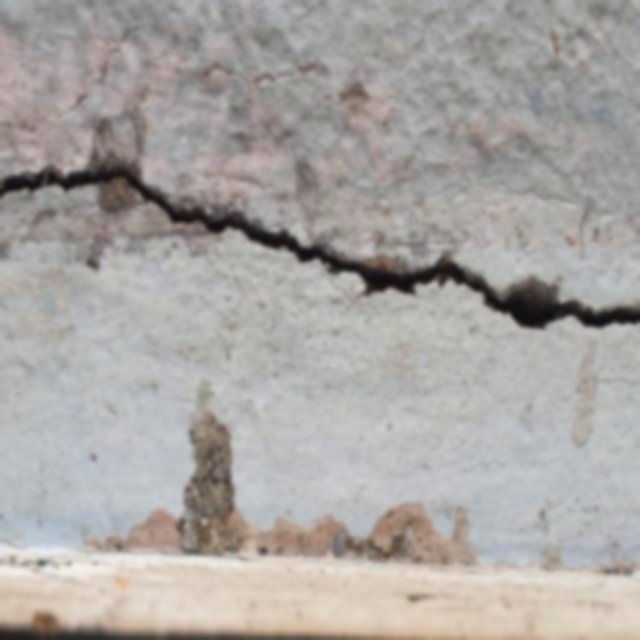SurfaceCrack: (1, 123, 640, 372)
